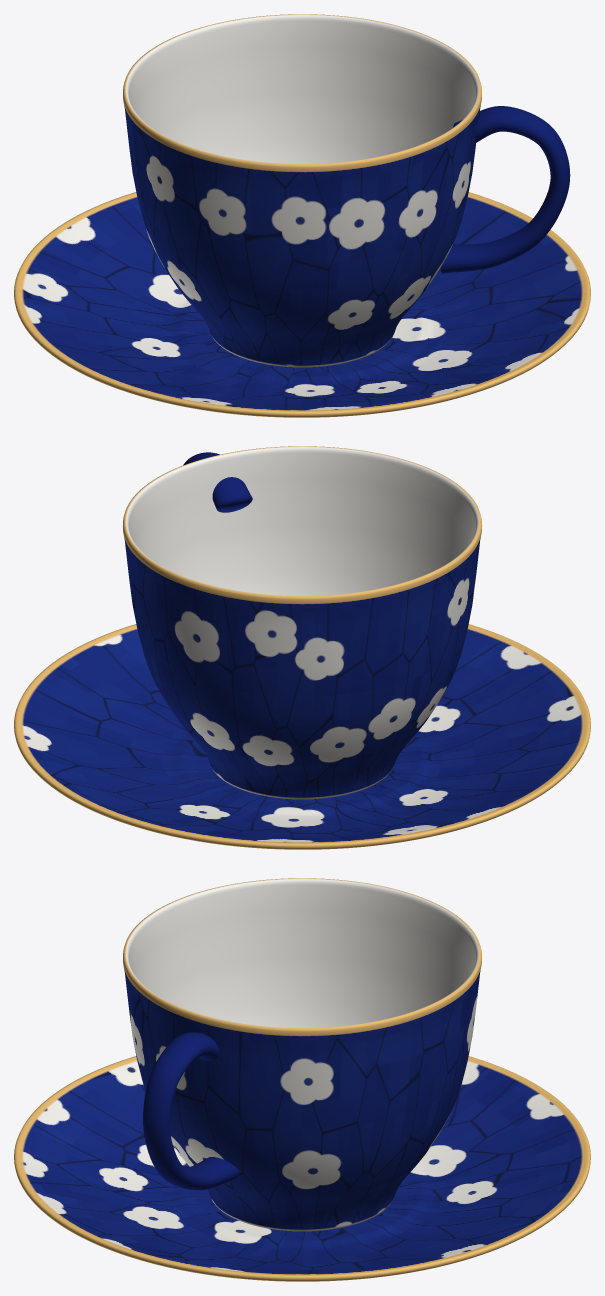
Rendered from prunus-cup-saucer.glb.
3 views of the same model, one above another, from view 1: azimuth 30°, elevation 25°; view 2: azimuth 150°, elevation 25°; view 3: azimuth 270°, elevation 25° (orthographic).
Parts seen in each view (by area): view 1: cup, saucer, cup-handle; view 2: cup, saucer, cup-handle; view 3: cup, saucer, cup-handle.
Part boxes in pixels (box(x1,y1,x2,y2)): cup: box(123, 14, 481, 367); saucer: box(14, 192, 590, 417); cup-handle: box(440, 106, 570, 273); cup: box(122, 446, 482, 799); saucer: box(14, 624, 590, 849); cup-handle: box(183, 452, 252, 512); cup: box(123, 878, 481, 1231); saucer: box(14, 1056, 590, 1281); cup-handle: box(143, 1032, 239, 1190).
Bounding box in the file's own units: 0.1506 × 0.0753 × 0.1506.
3 materials, 2 textured.
